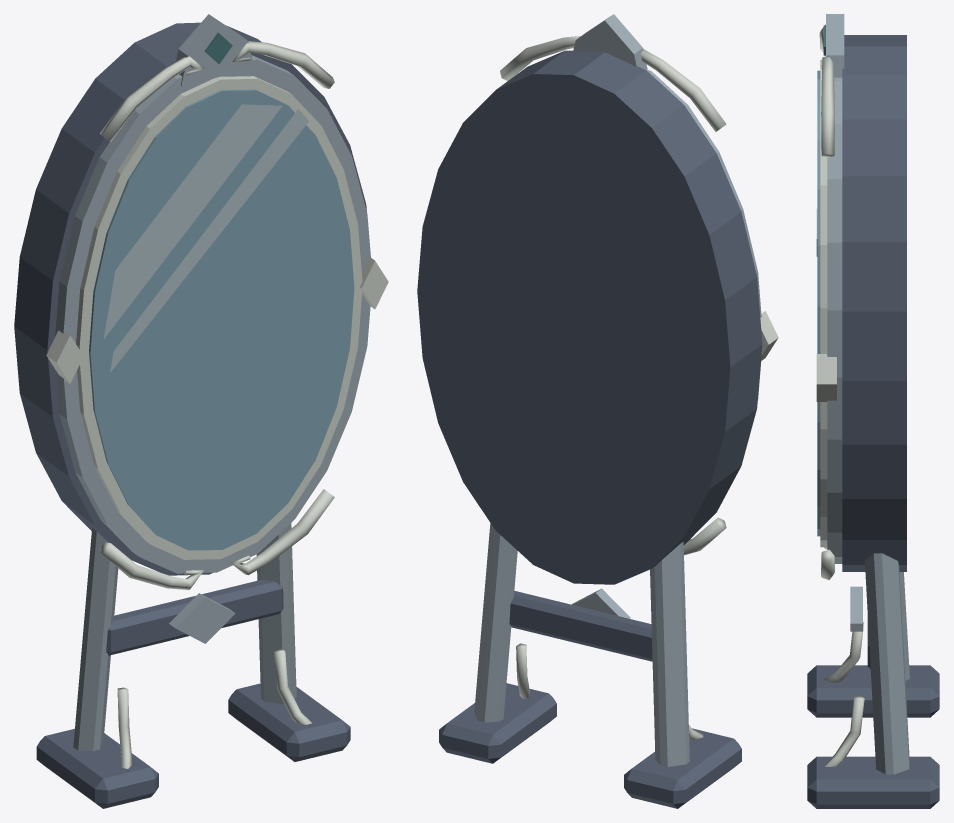
File: mirror.glb
The picture shows the model from 3 angles, left to right: view 1: azimuth 30°, elevation 25°; view 2: azimuth 150°, elevation 25°; view 3: azimuth 270°, elevation 25°; orthographic projection. The views are drawn at different scales.
Visible parts, largest first — view 1: mirror; view 2: mirror; view 3: mirror.
Boxes of the visible parts, bbox=[...] form: mirror: bbox=[14, 14, 388, 808]; mirror: bbox=[417, 14, 778, 808]; mirror: bbox=[807, 14, 939, 808].
Bounding box in the file's own units: 0.78 × 1.7 × 0.275.
